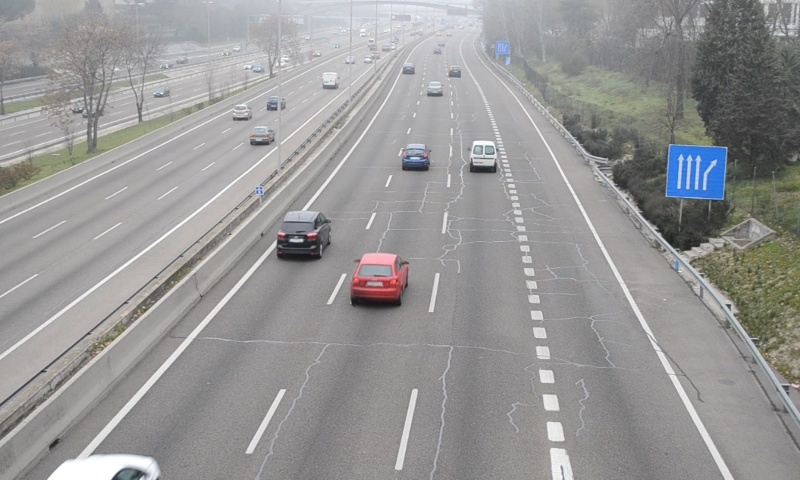car: (350, 253, 407, 303), (276, 210, 330, 257), (401, 144, 429, 169), (426, 80, 444, 96)
van: (469, 140, 496, 170)
